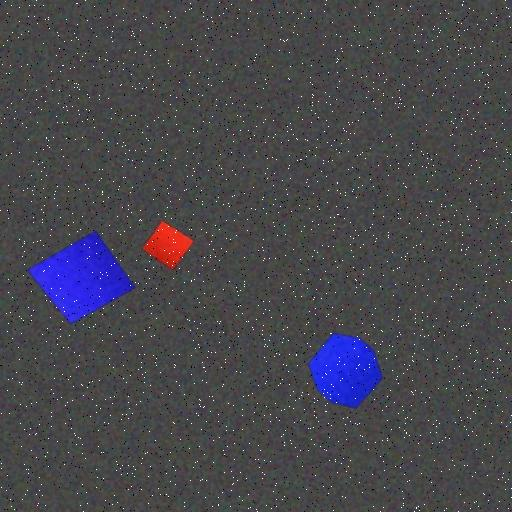BLUE_SQUARE: (26, 230, 136, 325)
RED_SQUARE: (141, 220, 194, 271)
